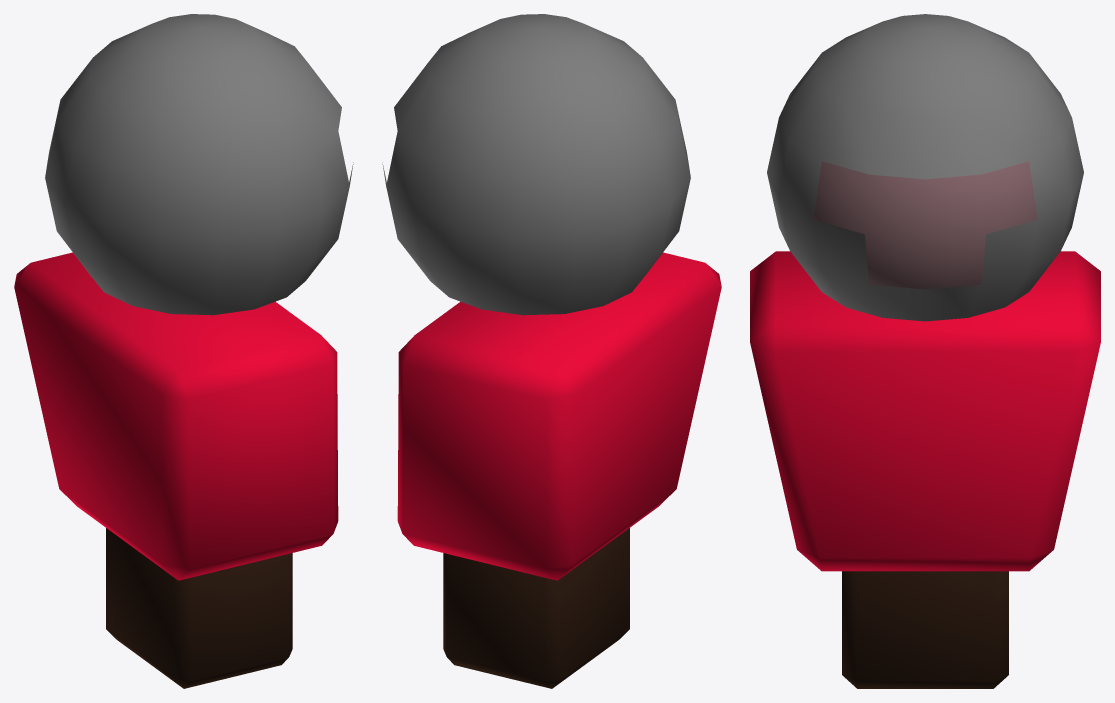
Rendered from Guard.glb.
The picture shows the model from 3 angles, left to right: view 1: azimuth 30°, elevation 25°; view 2: azimuth 150°, elevation 25°; view 3: azimuth 270°, elevation 25°; orthographic projection.
Visible parts, largest first — view 1: Body, Helmet, Legs; view 2: Body, Helmet, Legs; view 3: Body, Helmet, Legs, Head.
Part boxes in pixels (x1=…): Body: x1=14, y1=252, x2=338, y2=580; Helmet: x1=45, y1=14, x2=353, y2=315; Legs: x1=106, y1=528, x2=292, y2=688; Body: x1=397, y1=252, x2=721, y2=580; Helmet: x1=382, y1=14, x2=690, y2=315; Legs: x1=443, y1=528, x2=629, y2=688; Body: x1=750, y1=251, x2=1100, y2=571; Helmet: x1=767, y1=14, x2=1083, y2=321; Legs: x1=842, y1=571, x2=1008, y2=688; Head: x1=813, y1=161, x2=1037, y2=289.
Bounding box in the file's own units: 1.31 × 3.02 × 1.51.
